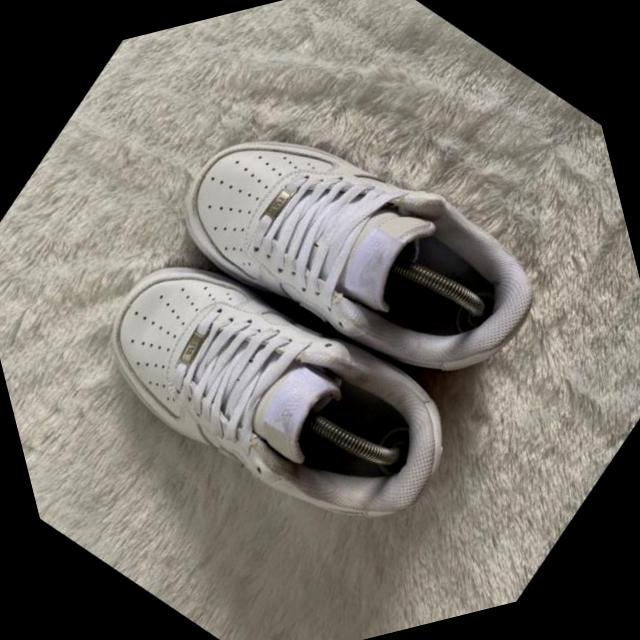nike_fake_airforce: (127, 14, 594, 488), (46, 158, 508, 630)
